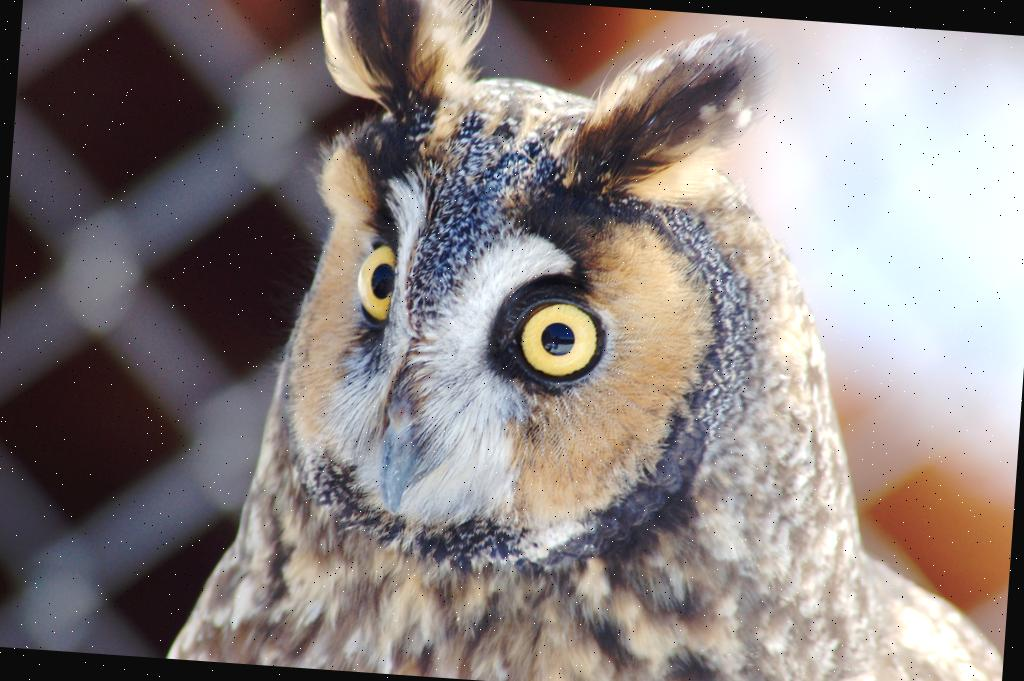Owl: (243, 0, 902, 630)
